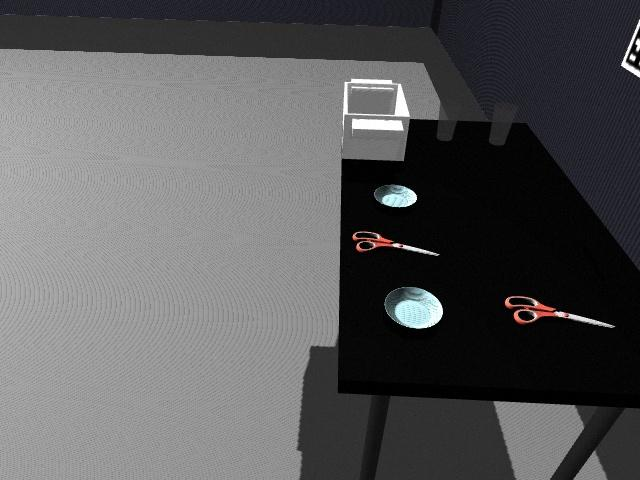cup: (488, 102, 517, 147), (436, 98, 457, 143)
plate: (383, 286, 446, 330), (372, 185, 417, 208)
scissors: (504, 294, 618, 330), (353, 230, 439, 257)
